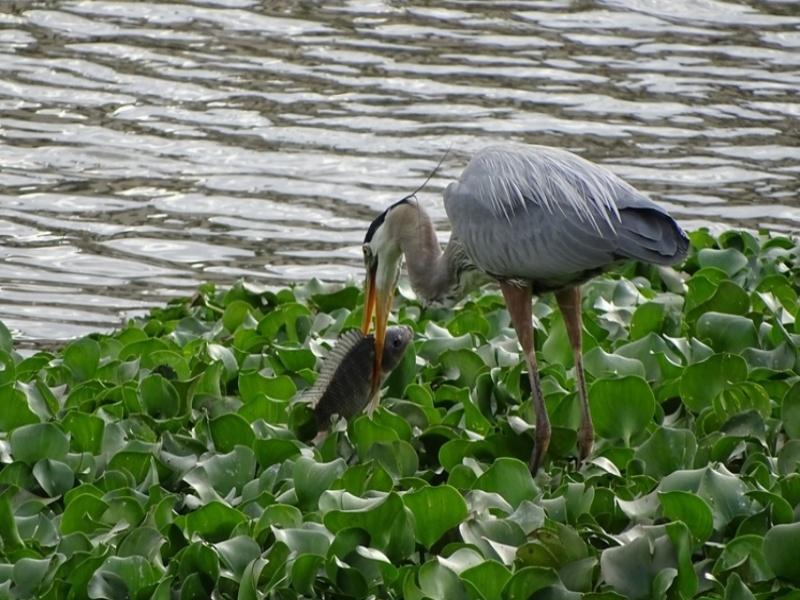heron: (354, 143, 691, 486)
